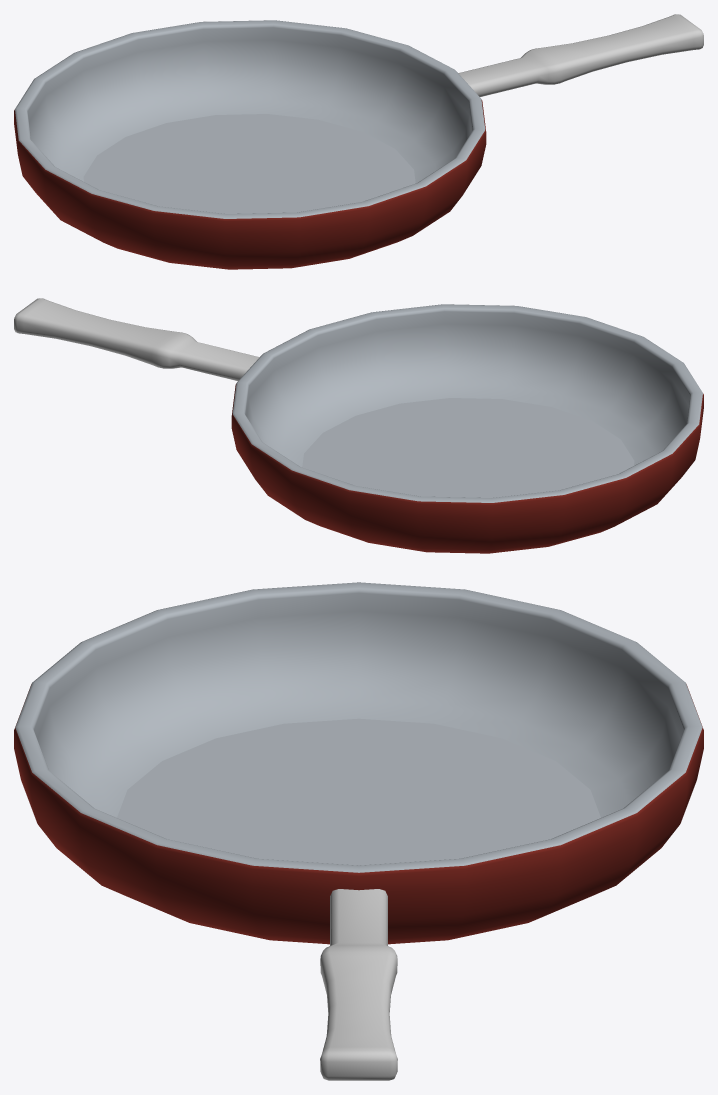
The model's file is Pan-1.fbx.
3 views of the same model, one above another, from view 1: azimuth 30°, elevation 25°; view 2: azimuth 150°, elevation 25°; view 3: azimuth 270°, elevation 25° (orthographic). The views are drawn at different scales.
Visible parts, largest first — view 1: Pan-1; view 2: Pan-1; view 3: Pan-1.
Part boxes in pixels (box(x1,y1,x2,y2)): Pan-1: box(14, 14, 703, 269); Pan-1: box(14, 298, 703, 553); Pan-1: box(14, 582, 703, 1080).
Bounding box in the file's own units: 0.4728 × 0.05 × 0.3.
